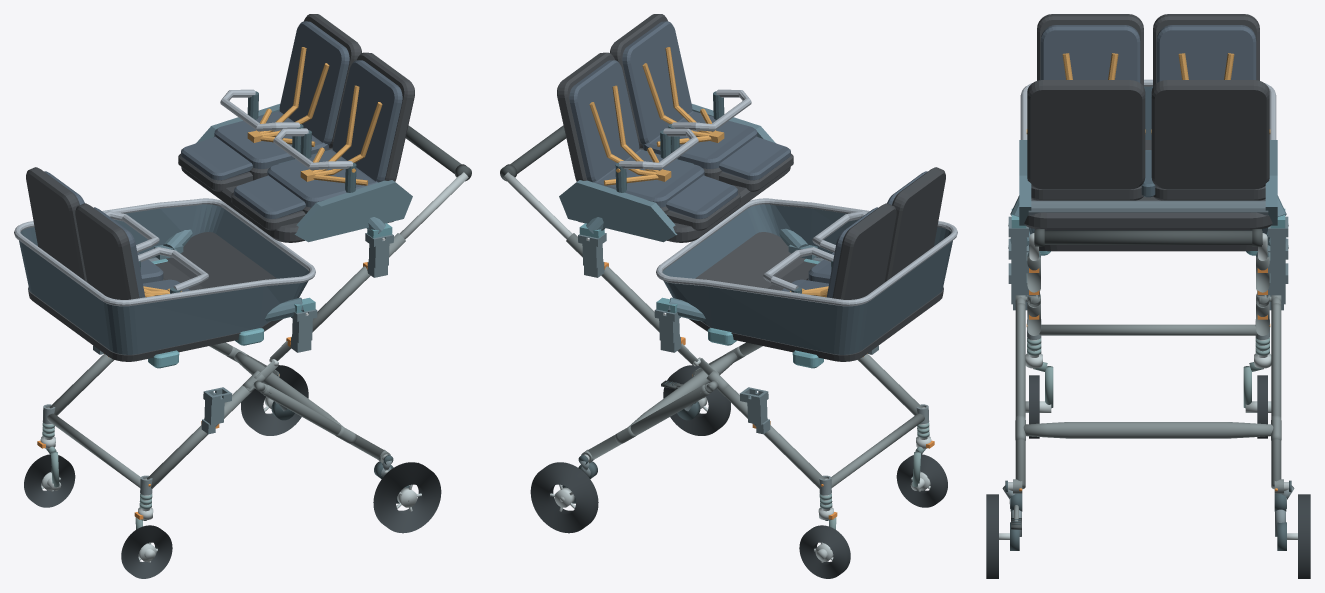
Rendered from D33_w650_state1_wheel_S.glb.
The picture shows the model from 3 angles, left to right: view 1: azimuth 30°, elevation 25°; view 2: azimuth 150°, elevation 25°; view 3: azimuth 270°, elevation 25°; orthographic projection. The views are drawn at different scales.
Visible parts, largest first — view 1: D33_Lower, D33_Upper, RL_tire.008, RR_tire.008, FL_tire.008, FR_tire.008, V46_rear_leg_-1.009, main_lower_-1.009, D33_Lower_Mount_M, front_fixed_round_tube.008, main_upper_-1.009, V46_rearbar.009 (+6 smaller); view 2: D33_Lower, D33_Upper, RR_tire.008, FR_tire.008, RL_tire.008, FL_tire.008, V46_rear_leg_1.009, main_lower_1.009, D33_Lower_Mount_M, front_fixed_round_tube.008, main_upper_1.009, V46_rearbar.009 (+6 smaller); view 3: D33_Upper, D33_Lower, V46_rearbar.009, round_handle.008, front_fixed_round_tube.008, V46_rear_leg_1.009, V46_rear_leg_-1.009, RL_tire.008, RR_tire.008, Universal_Cabin_Receiver_H_1, Universal_Cabin_Receiver_H_-1, FL_tire.008 (+5 smaller).
Part boxes in pixels (box(x1,y1,x2,y2)): D33_Lower: box(14, 167, 315, 368); D33_Upper: box(178, 14, 414, 242); RL_tire.008: box(373, 462, 441, 533); RR_tire.008: box(241, 365, 308, 435); FL_tire.008: box(121, 525, 172, 578); FR_tire.008: box(24, 454, 75, 507); V46_rear_leg_-1.009: box(262, 384, 384, 459); main_lower_-1.009: box(147, 385, 253, 488); D33_Lower_Mount_M: box(154, 229, 315, 321); front_fixed_round_tube.008: box(47, 413, 140, 487); main_upper_-1.009: box(312, 233, 405, 332); V46_rearbar.009: box(234, 352, 343, 426); D33_Lower: box(656, 167, 957, 368); D33_Upper: box(557, 14, 793, 242); RR_tire.008: box(530, 462, 598, 533); FR_tire.008: box(799, 525, 850, 578); RL_tire.008: box(663, 365, 730, 435); FL_tire.008: box(896, 454, 947, 507); V46_rear_leg_1.009: box(587, 384, 709, 459); main_lower_1.009: box(718, 385, 824, 488); D33_Lower_Mount_M: box(656, 228, 817, 321); front_fixed_round_tube.008: box(831, 413, 924, 487); main_upper_1.009: box(566, 233, 659, 332); V46_rearbar.009: box(628, 352, 737, 426); D33_Upper: box(1019, 80, 1277, 230); D33_Lower: box(1020, 14, 1276, 255); V46_rearbar.009: box(1023, 422, 1273, 438); round_handle.008: box(1034, 230, 1262, 244); front_fixed_round_tube.008: box(1039, 324, 1257, 335); V46_rear_leg_1.009: box(1271, 303, 1281, 489); V46_rear_leg_-1.009: box(1015, 303, 1025, 489); RL_tire.008: box(986, 494, 998, 578); RR_tire.008: box(1298, 494, 1310, 578); Universal_Cabin_Receiver_H_1: box(1268, 216, 1288, 273); Universal_Cabin_Receiver_H_-1: box(1008, 216, 1028, 273); FL_tire.008: box(1029, 375, 1039, 438).
Bounding box in the file's own units: 1.17 × 1.32 × 0.766.
